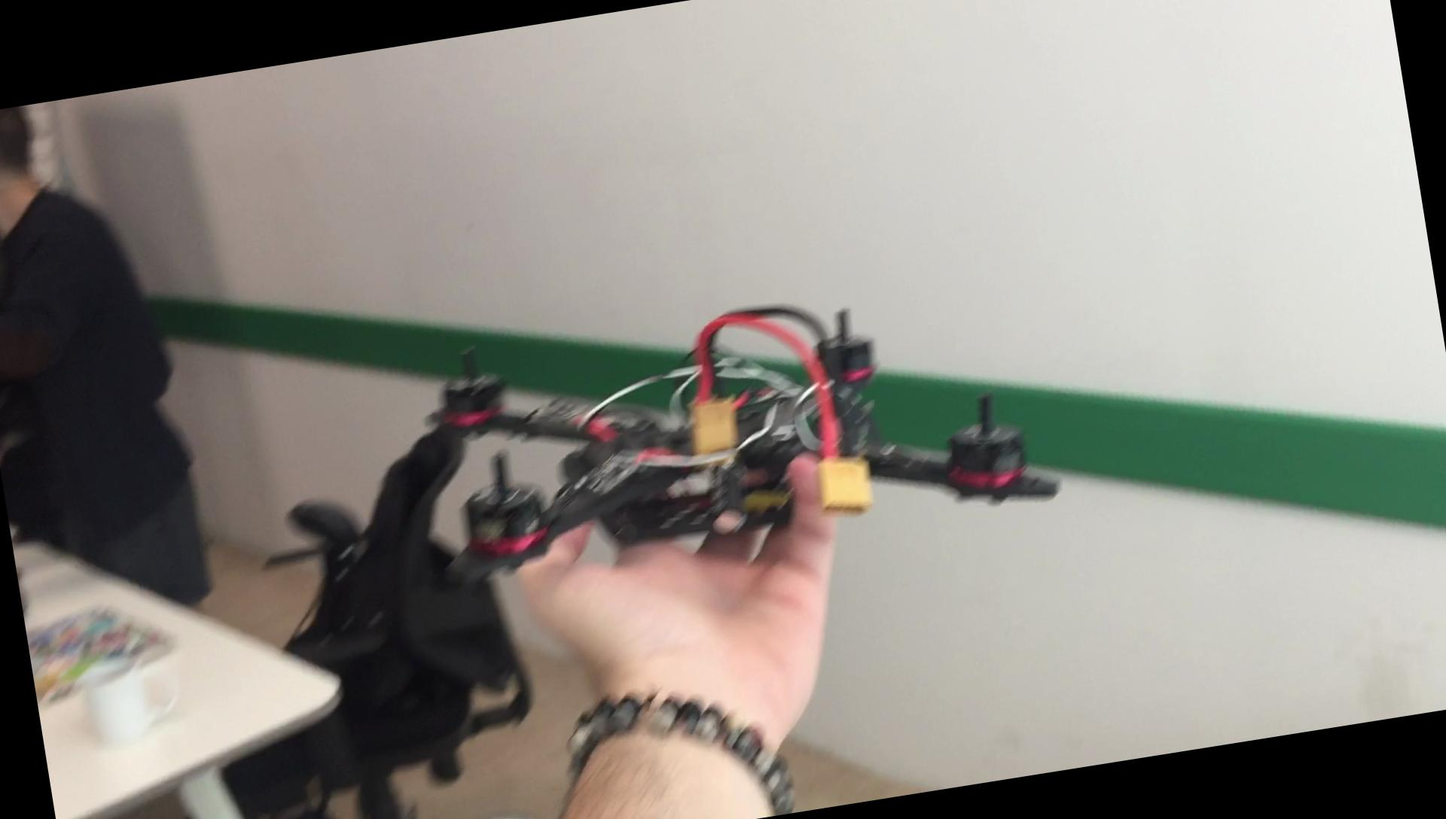drone: (377, 242, 1078, 630)
